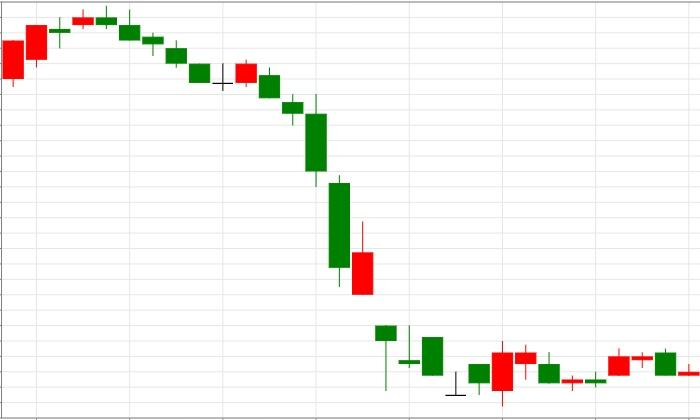bearish_engulfing_fall: (2, 5, 118, 87)
bullish_engulfing_rise: (96, 5, 514, 406)
morning_star_rise: (95, 5, 257, 91)
